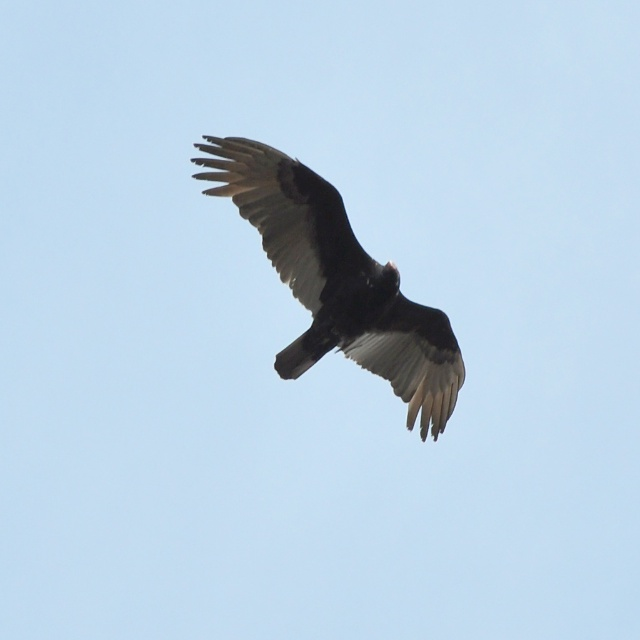Eagle: (189, 135, 467, 443)
